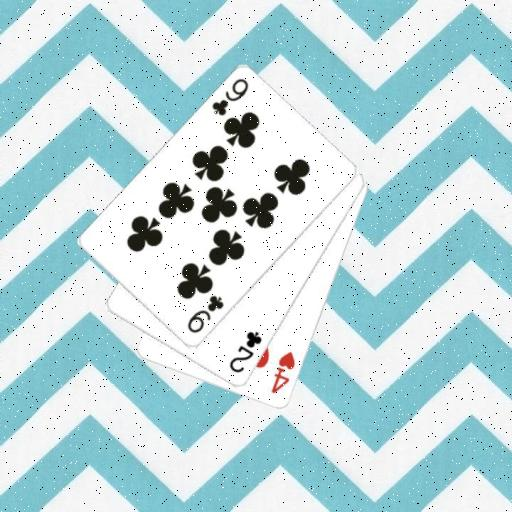2C: (226, 329, 264, 375)
4H: (269, 349, 297, 396)
9C: (184, 292, 226, 336), (209, 76, 251, 118)
